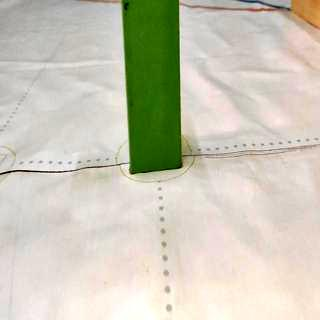greenbox: (120, 2, 186, 174)
